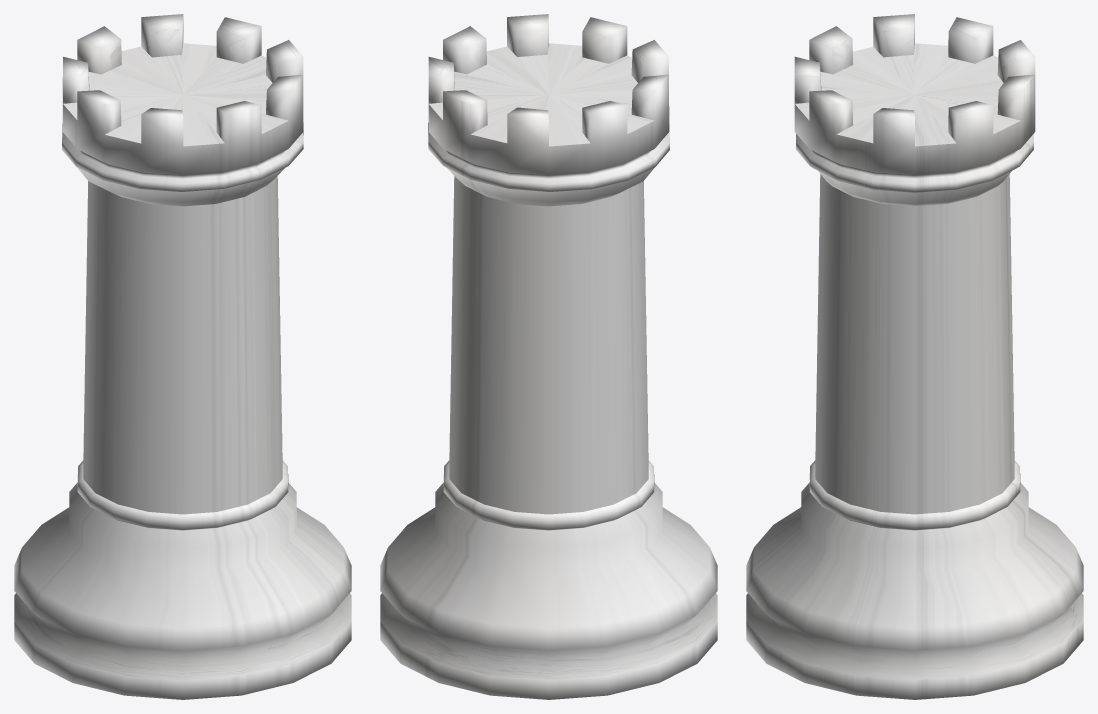
File: w-rook-stone.gltf
3 views of the same model, side by side, from view 1: azimuth 30°, elevation 25°; view 2: azimuth 150°, elevation 25°; view 3: azimuth 270°, elevation 25° (orthographic).
Visible parts, largest first — view 1: W_Rook; view 2: W_Rook; view 3: W_Rook.
Boxes of the visible parts, x1,y1,x2,y2 form: W_Rook: (14,14,351,699); W_Rook: (380,14,717,699); W_Rook: (746,14,1083,699).
Bounding box in the file's own units: 49.35 × 91.38 × 48.6.
1 material, 1 textured.
